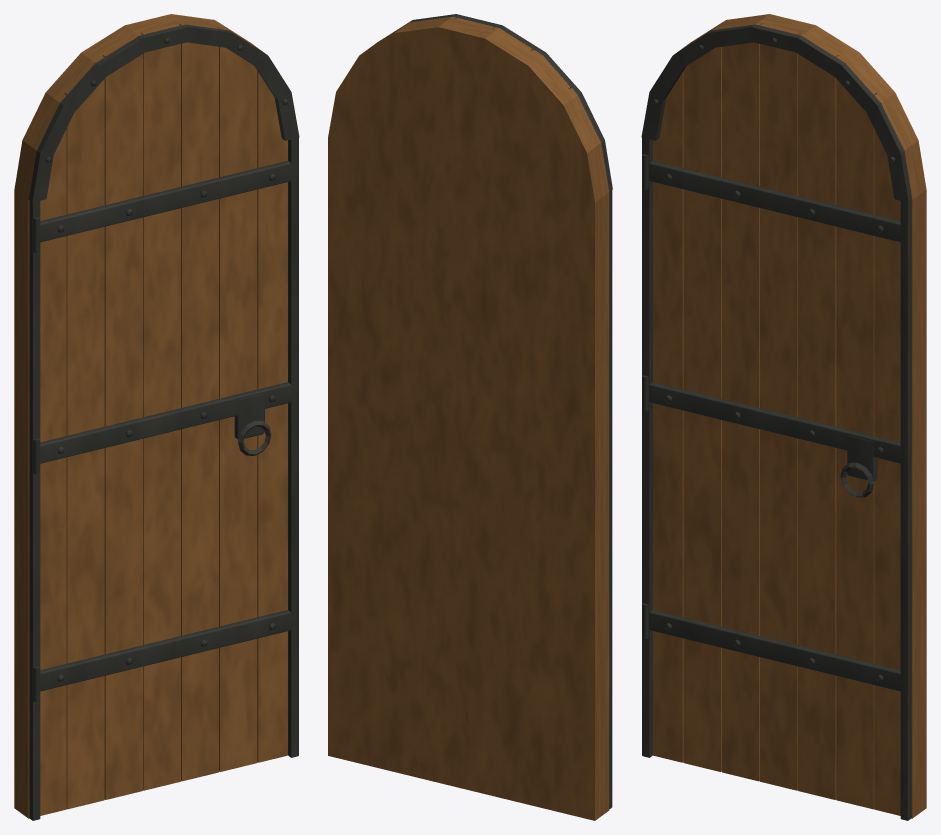
Rendered from Furn_ArchDoor.fbx.
3 views of the same model, side by side, from view 1: azimuth 30°, elevation 25°; view 2: azimuth 150°, elevation 25°; view 3: azimuth 330°, elevation 25° (orthographic).
Parts seen in each view (by area): view 1: Furn_ArchDoor_Mesh; view 2: Furn_ArchDoor_Mesh; view 3: Furn_ArchDoor_Mesh.
Part boxes in pixels (x1,y1,x2,y2): Furn_ArchDoor_Mesh: [14, 14, 299, 820]; Furn_ArchDoor_Mesh: [328, 14, 612, 820]; Furn_ArchDoor_Mesh: [641, 14, 926, 820].
Size of the model in its own units: 0.859 by 2.32 by 0.127.
